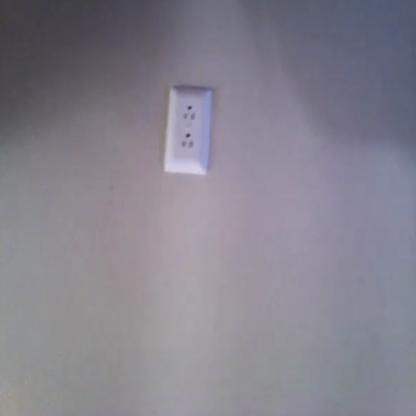OUTLET: (163, 88, 213, 172)
